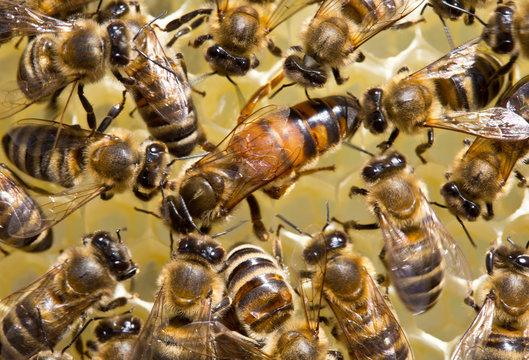Queen-Bee: (161, 94, 360, 240)
worker-bee: (2, 100, 175, 229), (360, 38, 528, 162), (350, 150, 470, 314), (0, 231, 137, 359), (98, 0, 205, 156), (302, 230, 413, 359), (127, 235, 230, 359), (283, 0, 422, 89), (190, 0, 310, 83), (17, 20, 133, 105), (451, 238, 528, 359), (440, 137, 528, 220), (224, 243, 294, 339)
